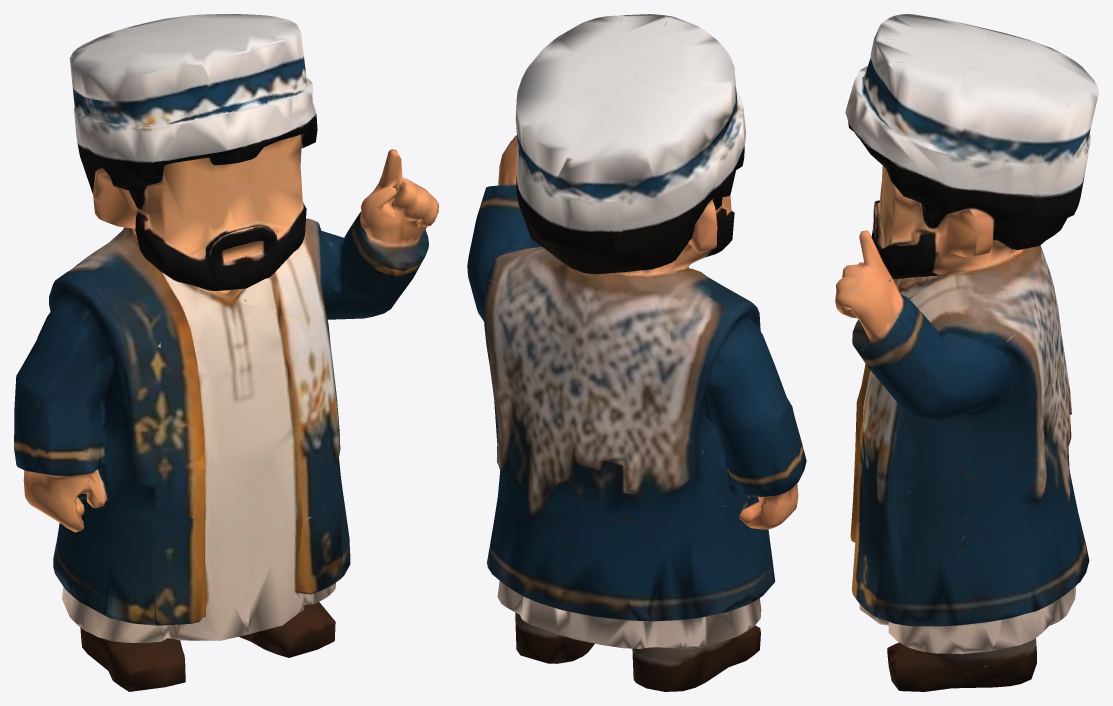
Rendered from wise-imam.glb.
3 views of the same model, side by side, from view 1: azimuth 30°, elevation 25°; view 2: azimuth 150°, elevation 25°; view 3: azimuth 270°, elevation 25° (orthographic). The views are drawn at different scales.
Bounding box in the file's own units: 1.15 × 1.9 × 0.7503.
Materials: 1 (1 with a texture image).
